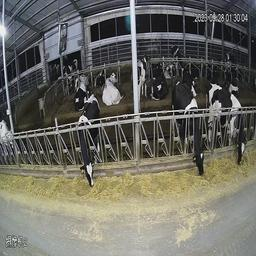cow: (171, 76, 207, 188), (76, 89, 107, 205), (209, 77, 247, 170), (72, 76, 102, 113), (150, 60, 170, 108), (103, 67, 125, 109), (137, 51, 152, 108), (63, 58, 78, 79), (203, 58, 215, 76), (171, 42, 183, 59), (224, 47, 234, 67), (185, 61, 199, 75)
